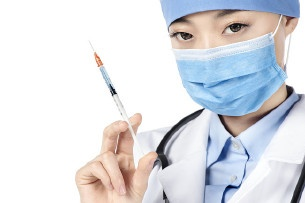Mask: (165, 2, 277, 114)
